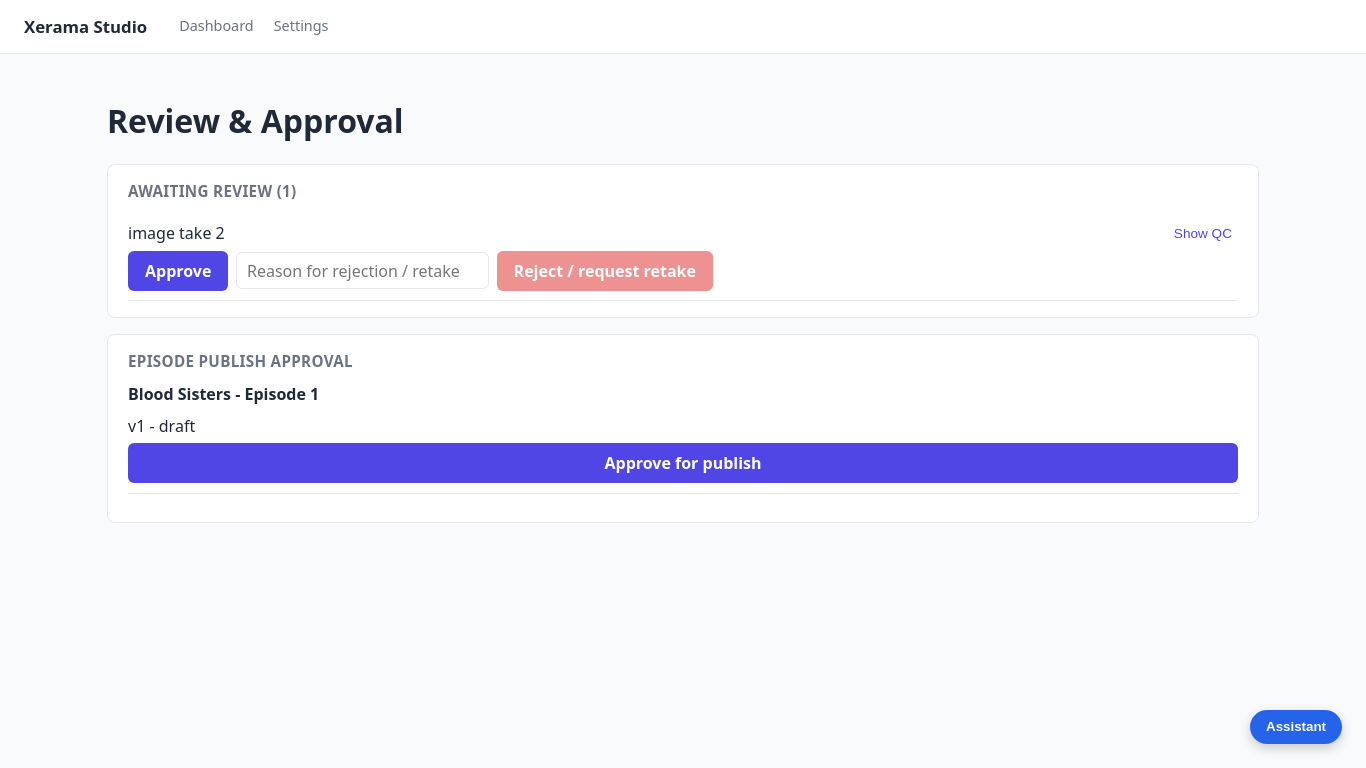
it: Review & Approval Studio (MODULE-060) › requires a reason before rejecting an asset
Expected: the button "Reject / request retake" is disabled, [497,251,713,291]
Type "blurry face" into the field named "Rejection reason for A1" at (362, 271), box [236,252,489,289]
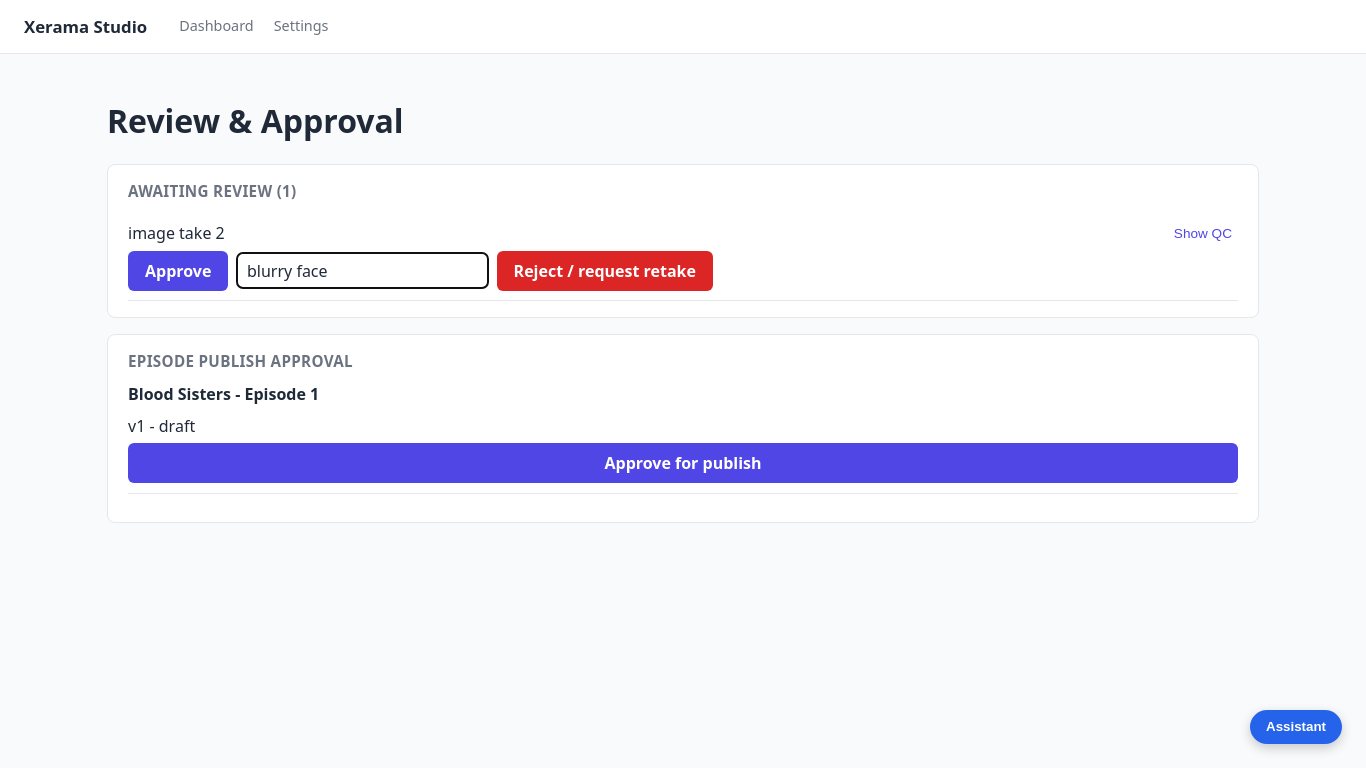
Result: the button "Reject / request retake" is enabled at [497,251,713,291]
